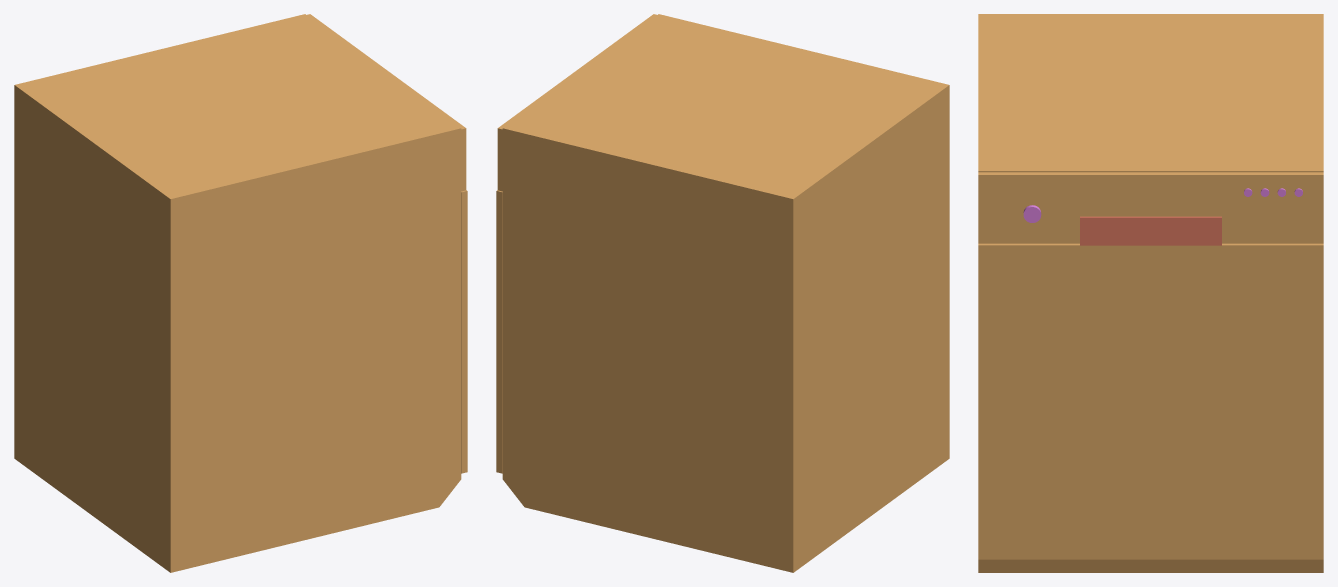
The model's file is dishwasher_with_door.fbx.
3 views of the same model, side by side, from view 1: azimuth 30°, elevation 25°; view 2: azimuth 150°, elevation 25°; view 3: azimuth 270°, elevation 25° (orthographic). The views are drawn at different scales.
Parts seen in each view (by area): view 1: dishwasher, detail.001, detail; view 2: dishwasher, detail.001, detail; view 3: detail.001, dishwasher, detail, handle, buttons.
Boxes of the visible parts, left/top/right/bottom form: dishwasher: left=14, top=14, right=461, bottom=572; detail.001: left=461, top=190, right=467, bottom=473; detail: left=307, top=14, right=466, bottom=191; dishwasher: left=502, top=14, right=949, bottom=572; detail.001: left=496, top=190, right=502, bottom=473; detail: left=497, top=14, right=656, bottom=191; detail.001: left=978, top=243, right=1323, bottom=556; dishwasher: left=978, top=14, right=1323, bottom=572; detail: left=978, top=172, right=1323, bottom=243; handle: left=1080, top=216, right=1221, bottom=245; buttons: left=1023, top=188, right=1302, bottom=222.
Bounding box in the file's own units: 206 × 246 × 186.
